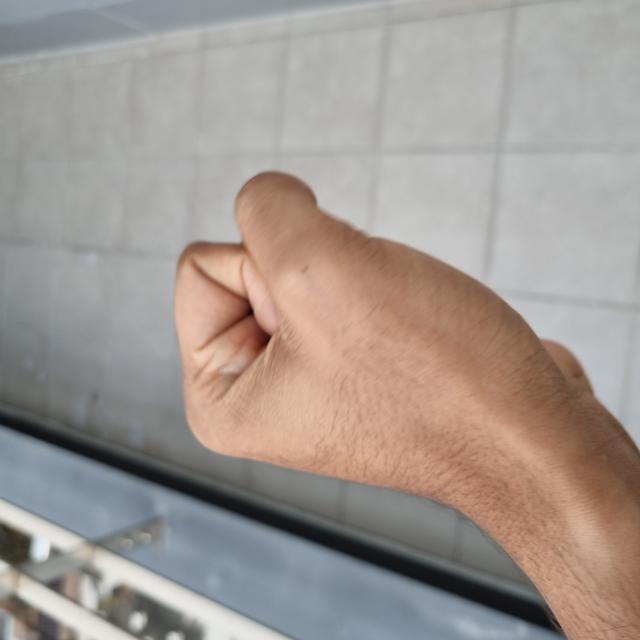Rock: (113, 169, 466, 605)
